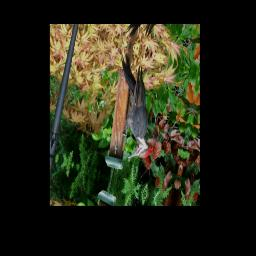Woodpecker: (102, 50, 169, 167)
